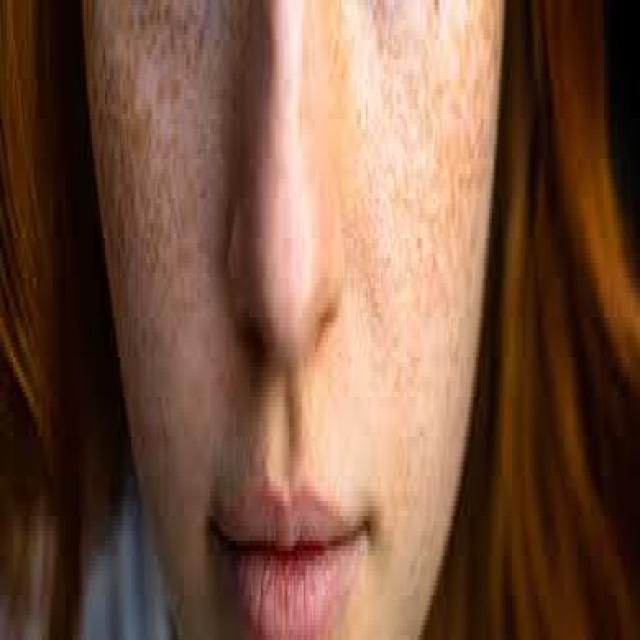pigmentation: (92, 29, 216, 291)
